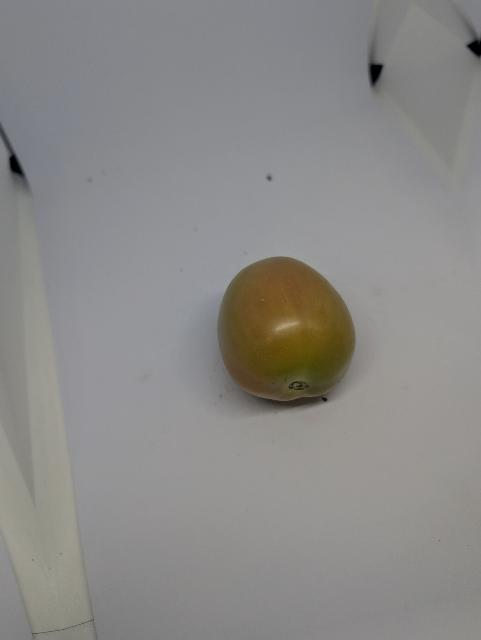turning: (209, 252, 358, 403)
